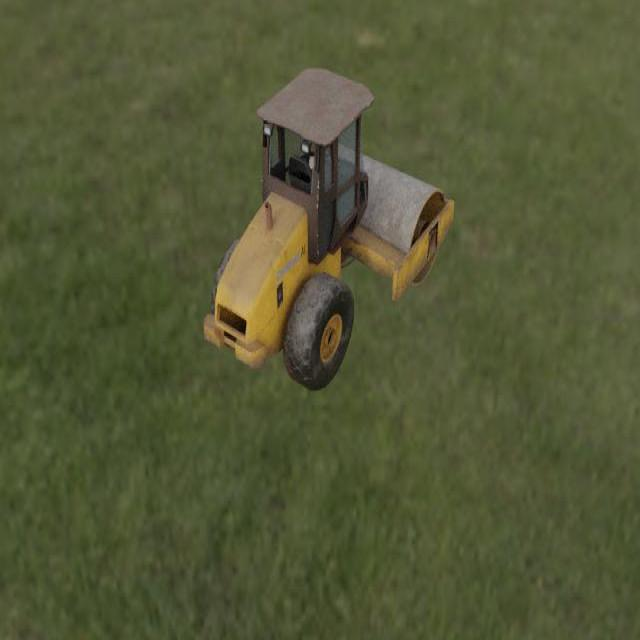Roller: (203, 67, 454, 390)
